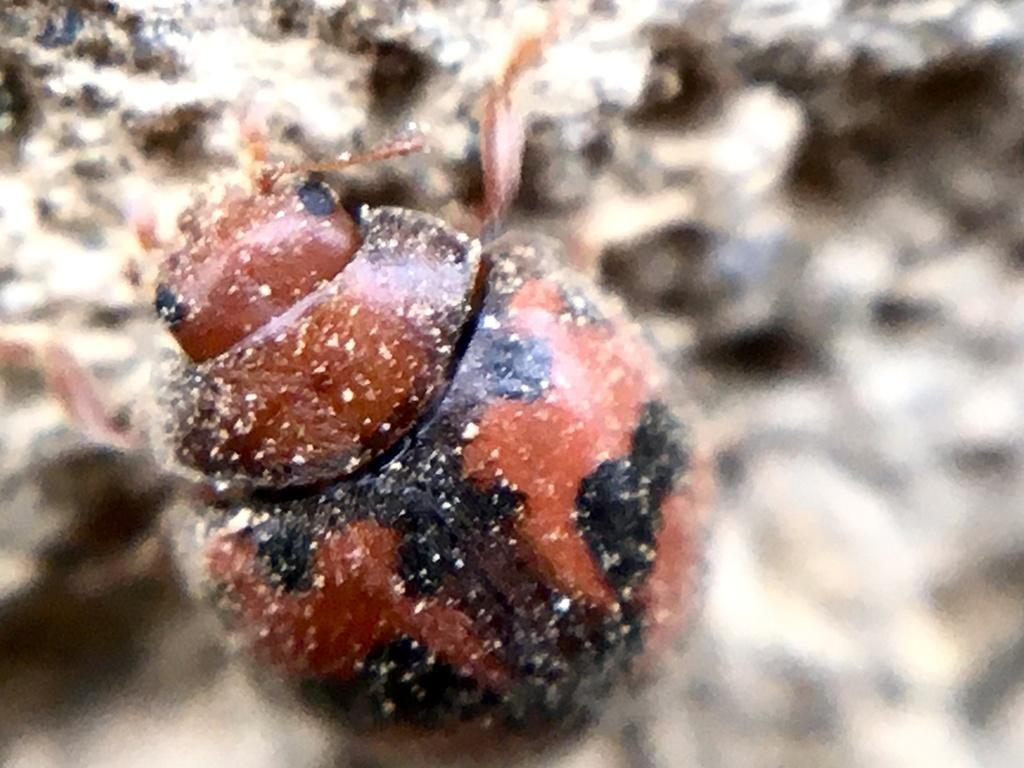ladybug: (133, 13, 711, 768)
